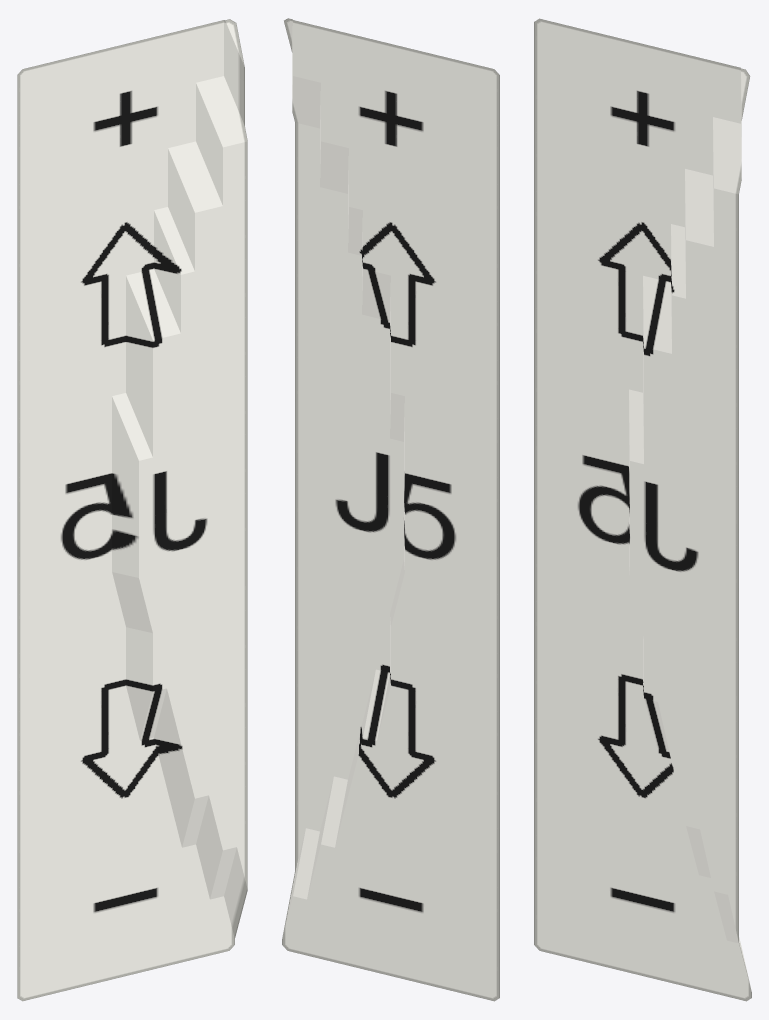
File: J5_sticker_other.glb
The picture shows the model from 3 angles, left to right: view 1: azimuth 30°, elevation 25°; view 2: azimuth 150°, elevation 25°; view 3: azimuth 330°, elevation 25°; orthographic projection.
Bounding box in the file's own units: 0.006 × 0.024 × 0.0006.
1 material, 1 textured.
